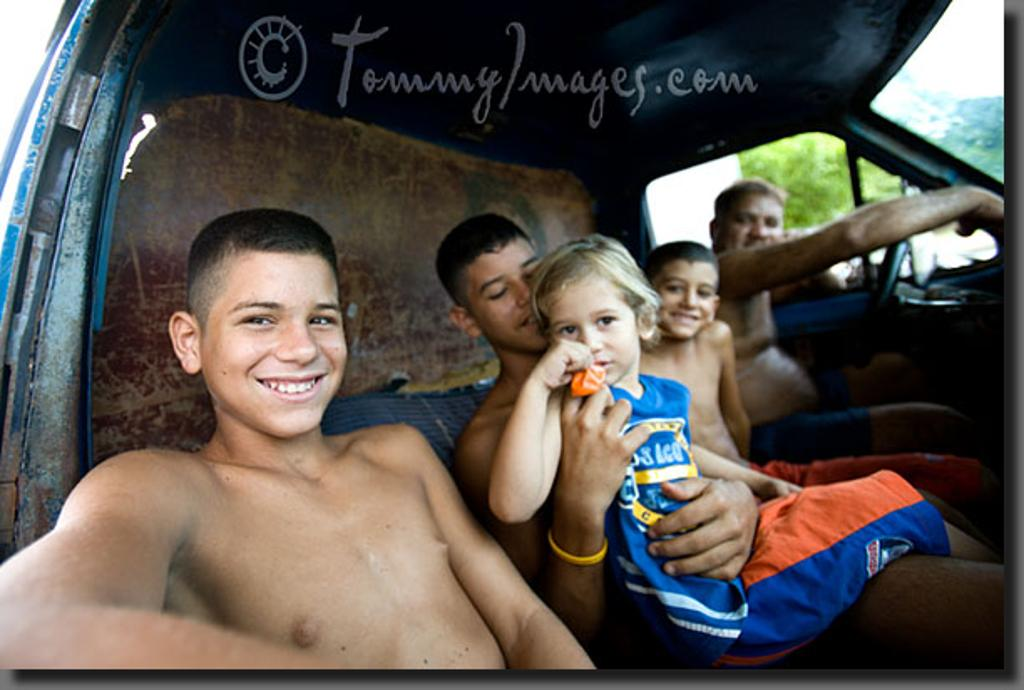face: (206, 262, 346, 434), (480, 248, 558, 346), (558, 304, 636, 392), (656, 260, 718, 340), (724, 194, 786, 268)
